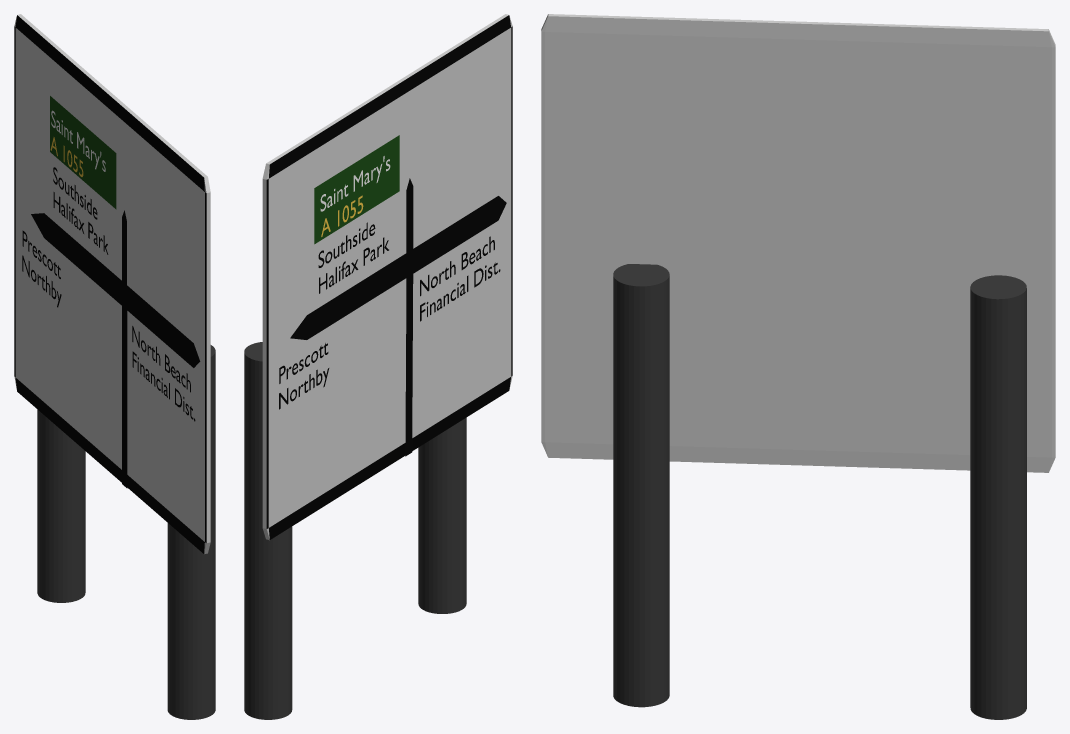
The model's file is TheOrbitalJunctionSign3.fbx.
The picture shows the model from 3 angles, left to right: view 1: azimuth 30°, elevation 25°; view 2: azimuth 150°, elevation 25°; view 3: azimuth 270°, elevation 25°; orthographic projection. The views are drawn at different scales.
Visible parts, largest first — view 1: Cube.030, Cylinder.001, Cylinder.002, DirectionPlaneM, Plane, Text.001, Text.002, Text.008, Text.004, Text.009; view 2: Cube.030, Cylinder.002, Cylinder.001, DirectionPlaneM, Plane, Text.001, Text.002, Text.008, Text.004; view 3: Cube.030, Cylinder.002, Cylinder.001.
Part boxes in pixels (x1,y1,x2,y2): Cube.030: (14,14,210,554); Cylinder.001: (167,345,215,719); Cylinder.002: (37,409,85,602); DirectionPlaneM: (31,210,200,488); Plane: (50,96,116,209); Text.001: (132,351,195,421); Text.002: (132,326,190,392); Text.008: (53,192,108,254); Text.004: (51,110,105,171); Text.009: (53,167,97,219); Cube.030: (262,14,512,540); Cylinder.002: (244,342,292,719); Cylinder.001: (418,417,466,613); DirectionPlaneM: (290,178,506,456); Plane: (314,135,399,244); Text.001: (420,262,500,321); Text.002: (420,236,494,296); Text.008: (319,237,388,293); Text.004: (320,156,390,211); Cube.030: (541,14,1055,472); Cylinder.002: (970,275,1026,719); Cylinder.001: (613,264,669,707).
Bounding box in the file's own units: 108 × 824 × 577.
